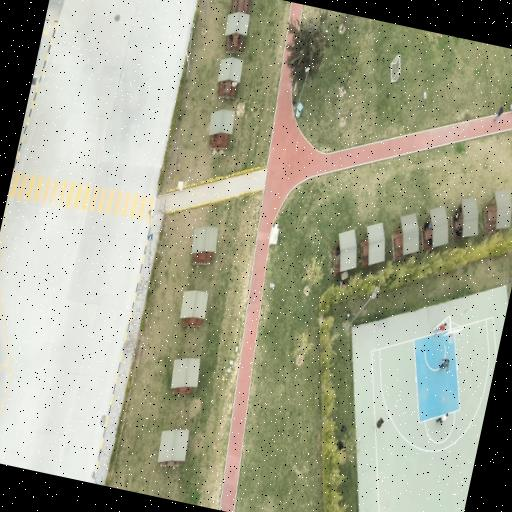person: (434, 410, 448, 424), (434, 322, 447, 336), (495, 106, 504, 120), (439, 359, 449, 371), (375, 418, 384, 430), (454, 211, 461, 222), (456, 226, 462, 237), (338, 441, 345, 450), (423, 221, 430, 230), (336, 246, 340, 256), (341, 426, 346, 432)
